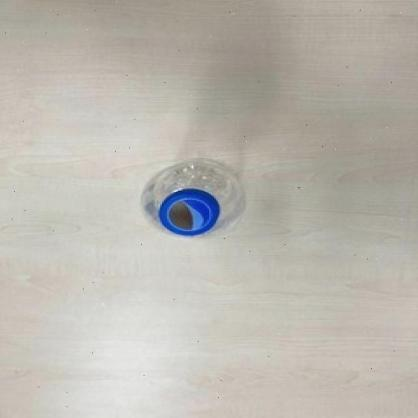bottle: (135, 145, 252, 248)
cap: (156, 188, 220, 236)
